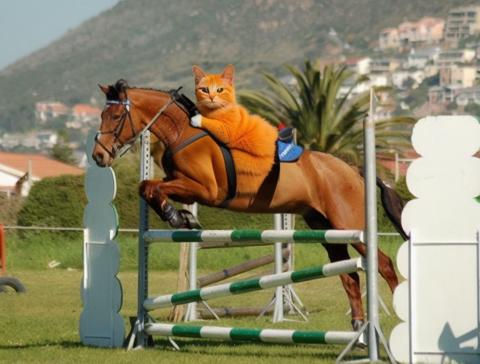cat: (185, 62, 279, 199)
horse: (90, 78, 403, 336)
